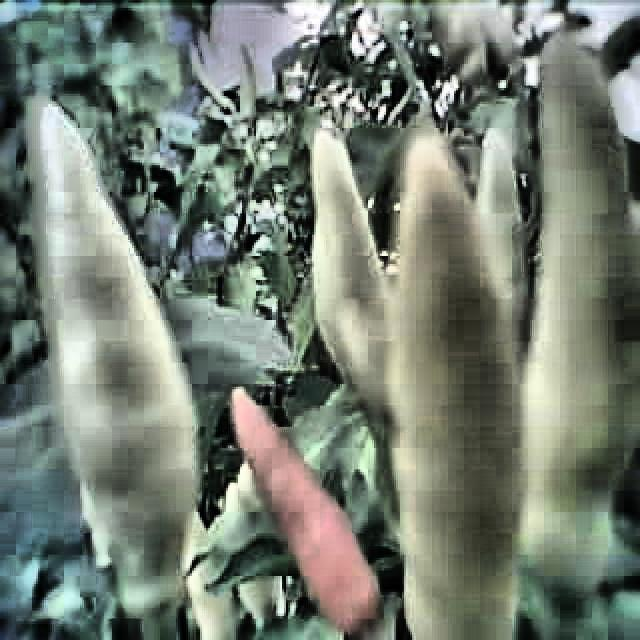Cabai: (227, 379, 383, 633)
